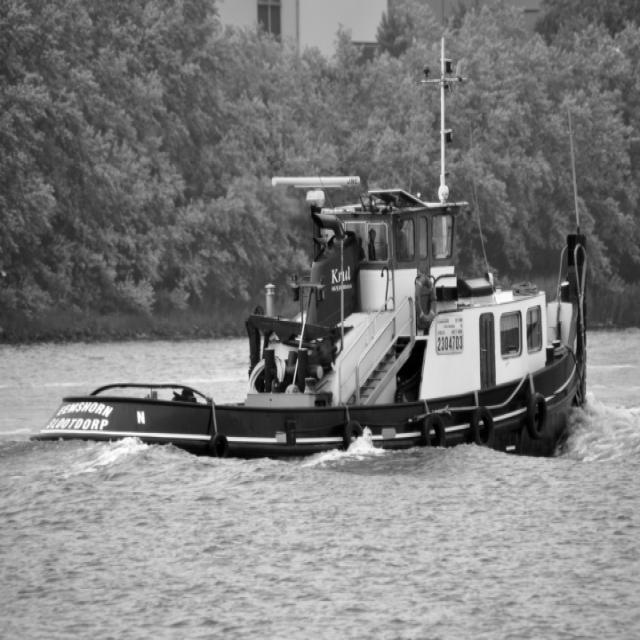tugboat: (30, 170, 600, 481)
